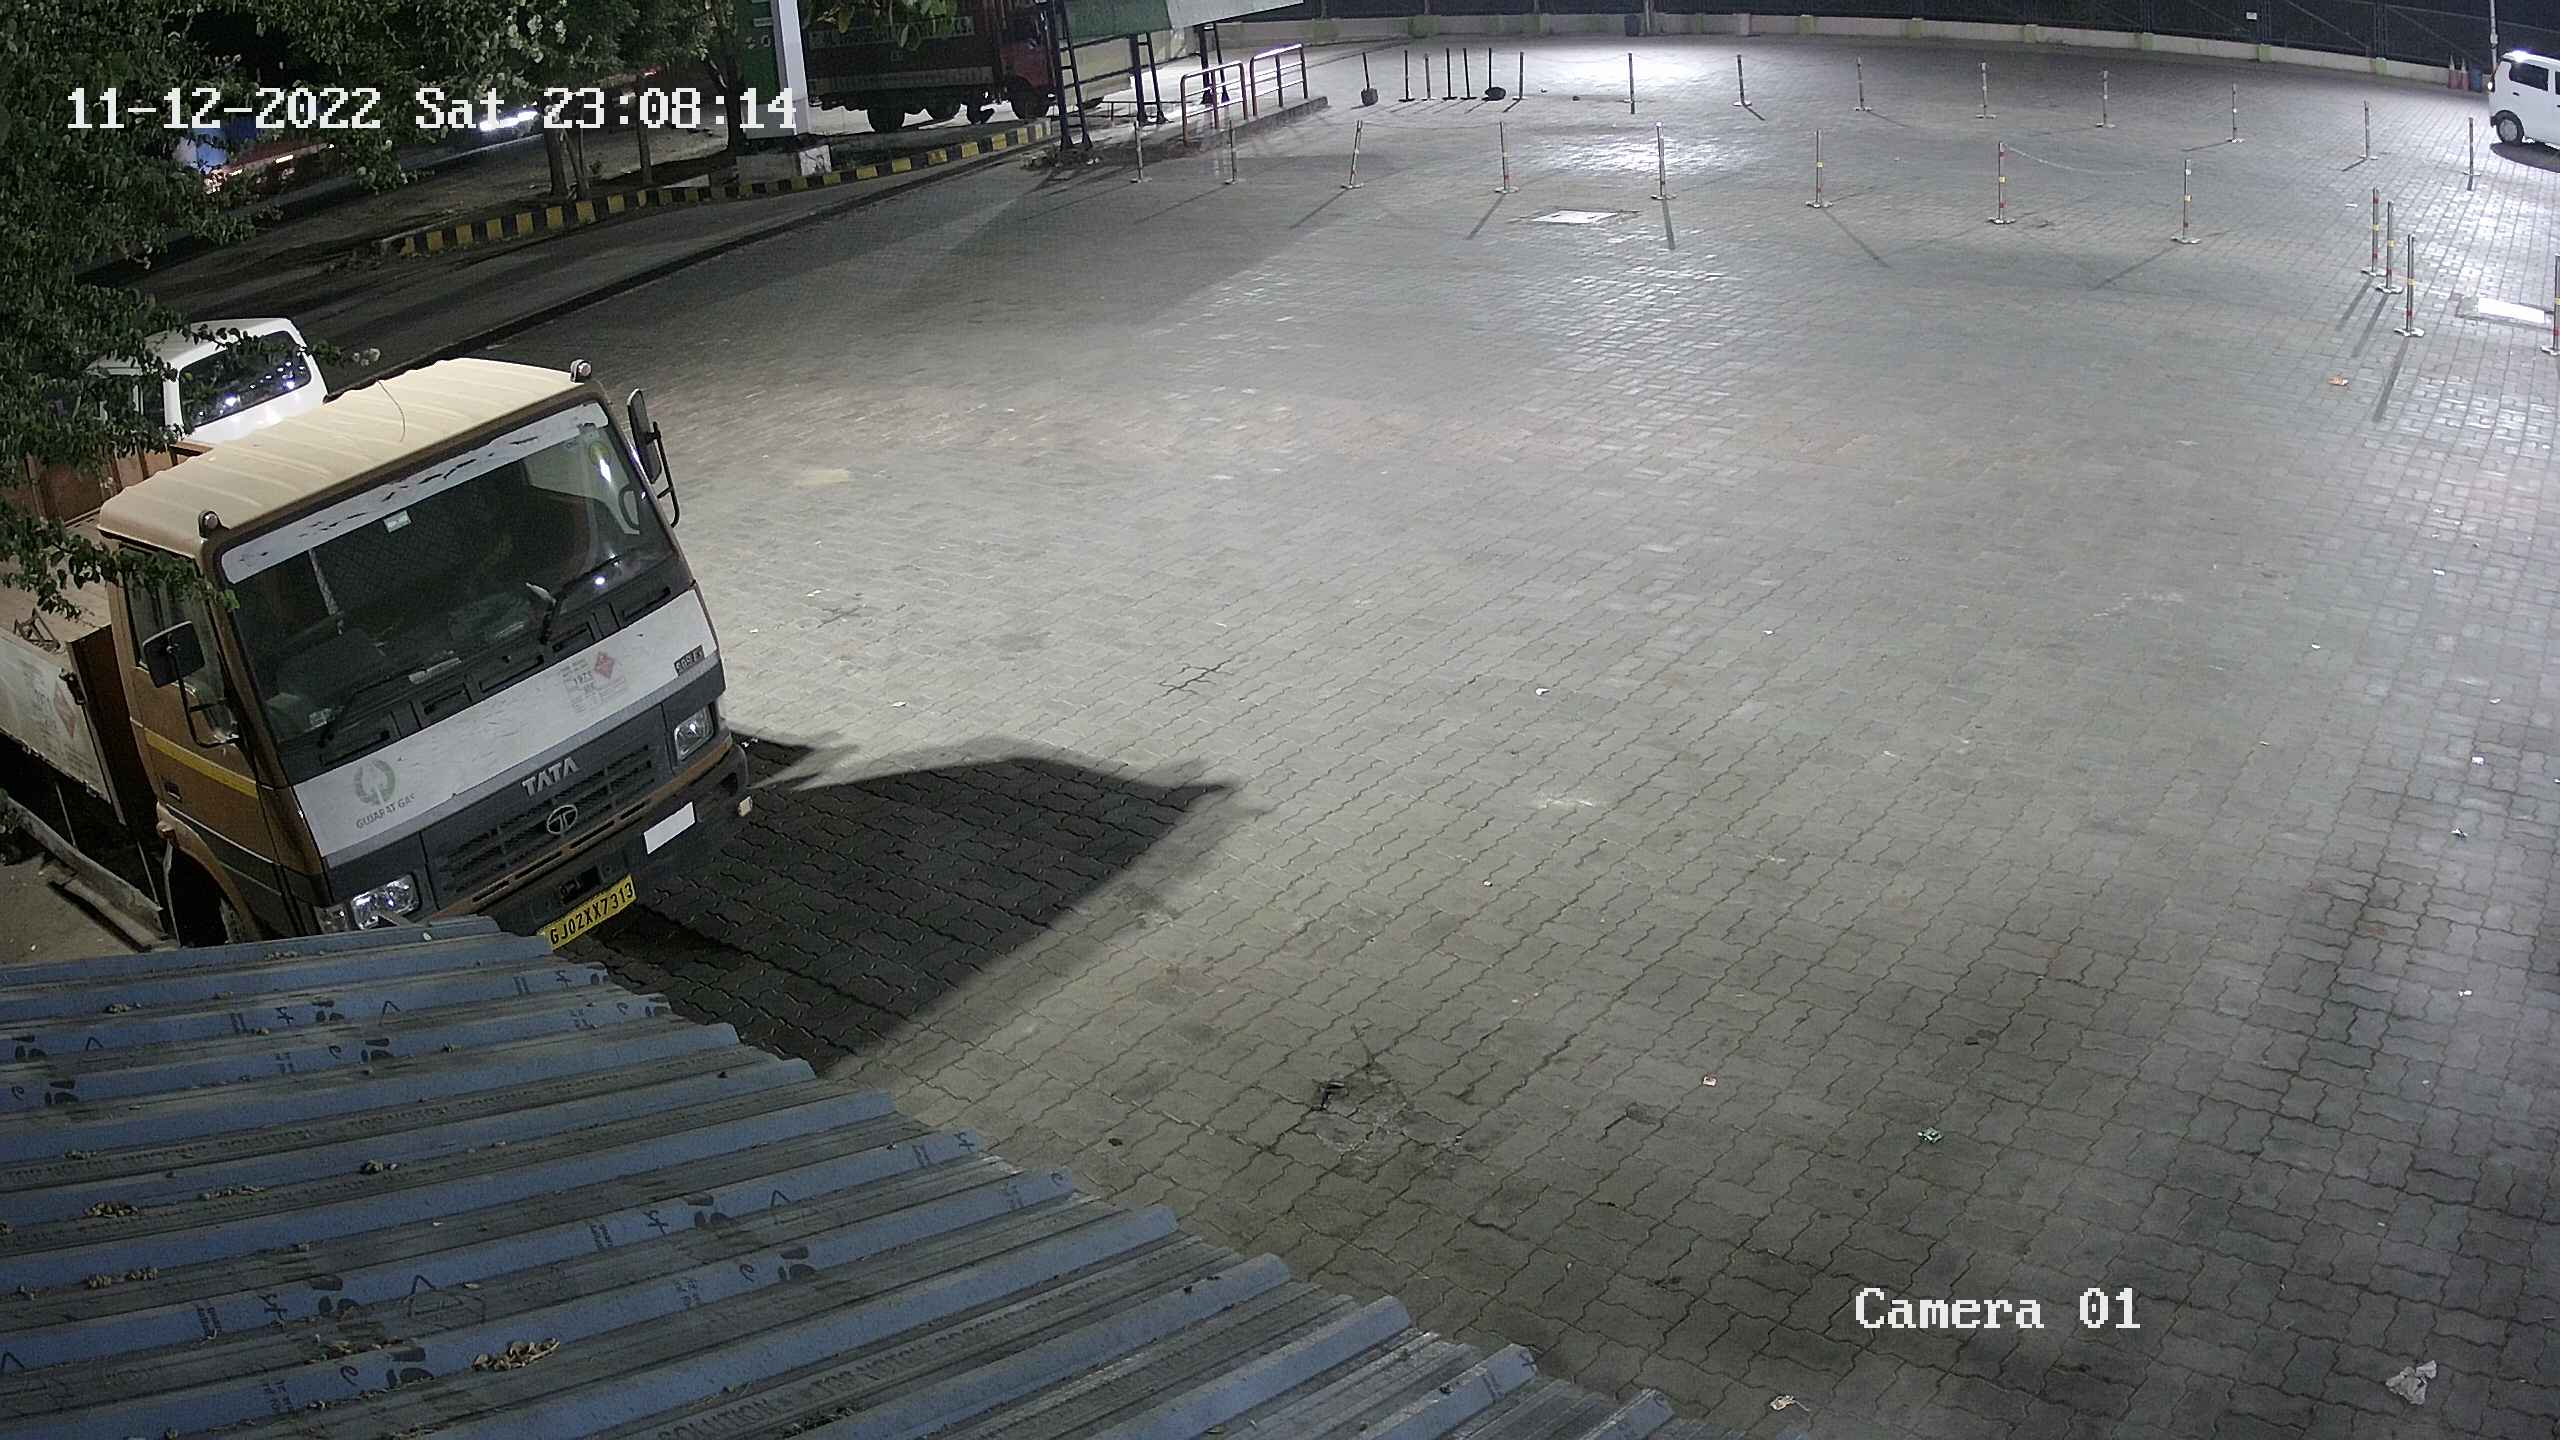Car: (26, 295, 360, 455), (2462, 18, 2560, 190)
HMV: (2, 324, 777, 965), (687, 0, 1159, 134)
